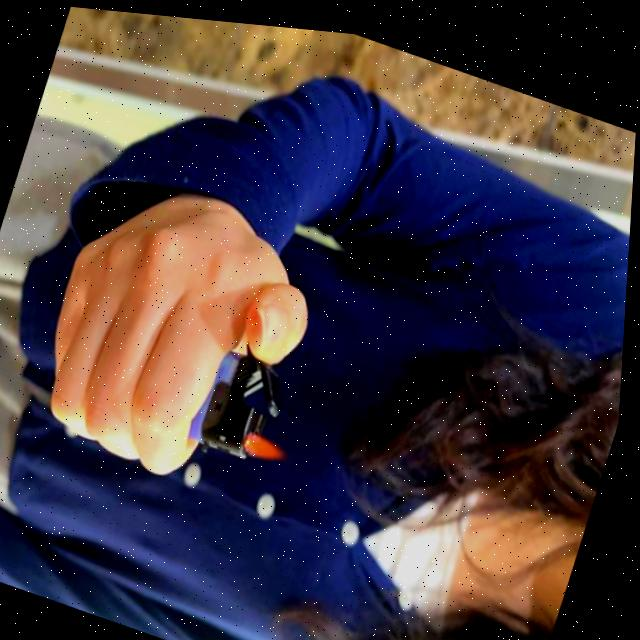Fire: (246, 420, 295, 463)
